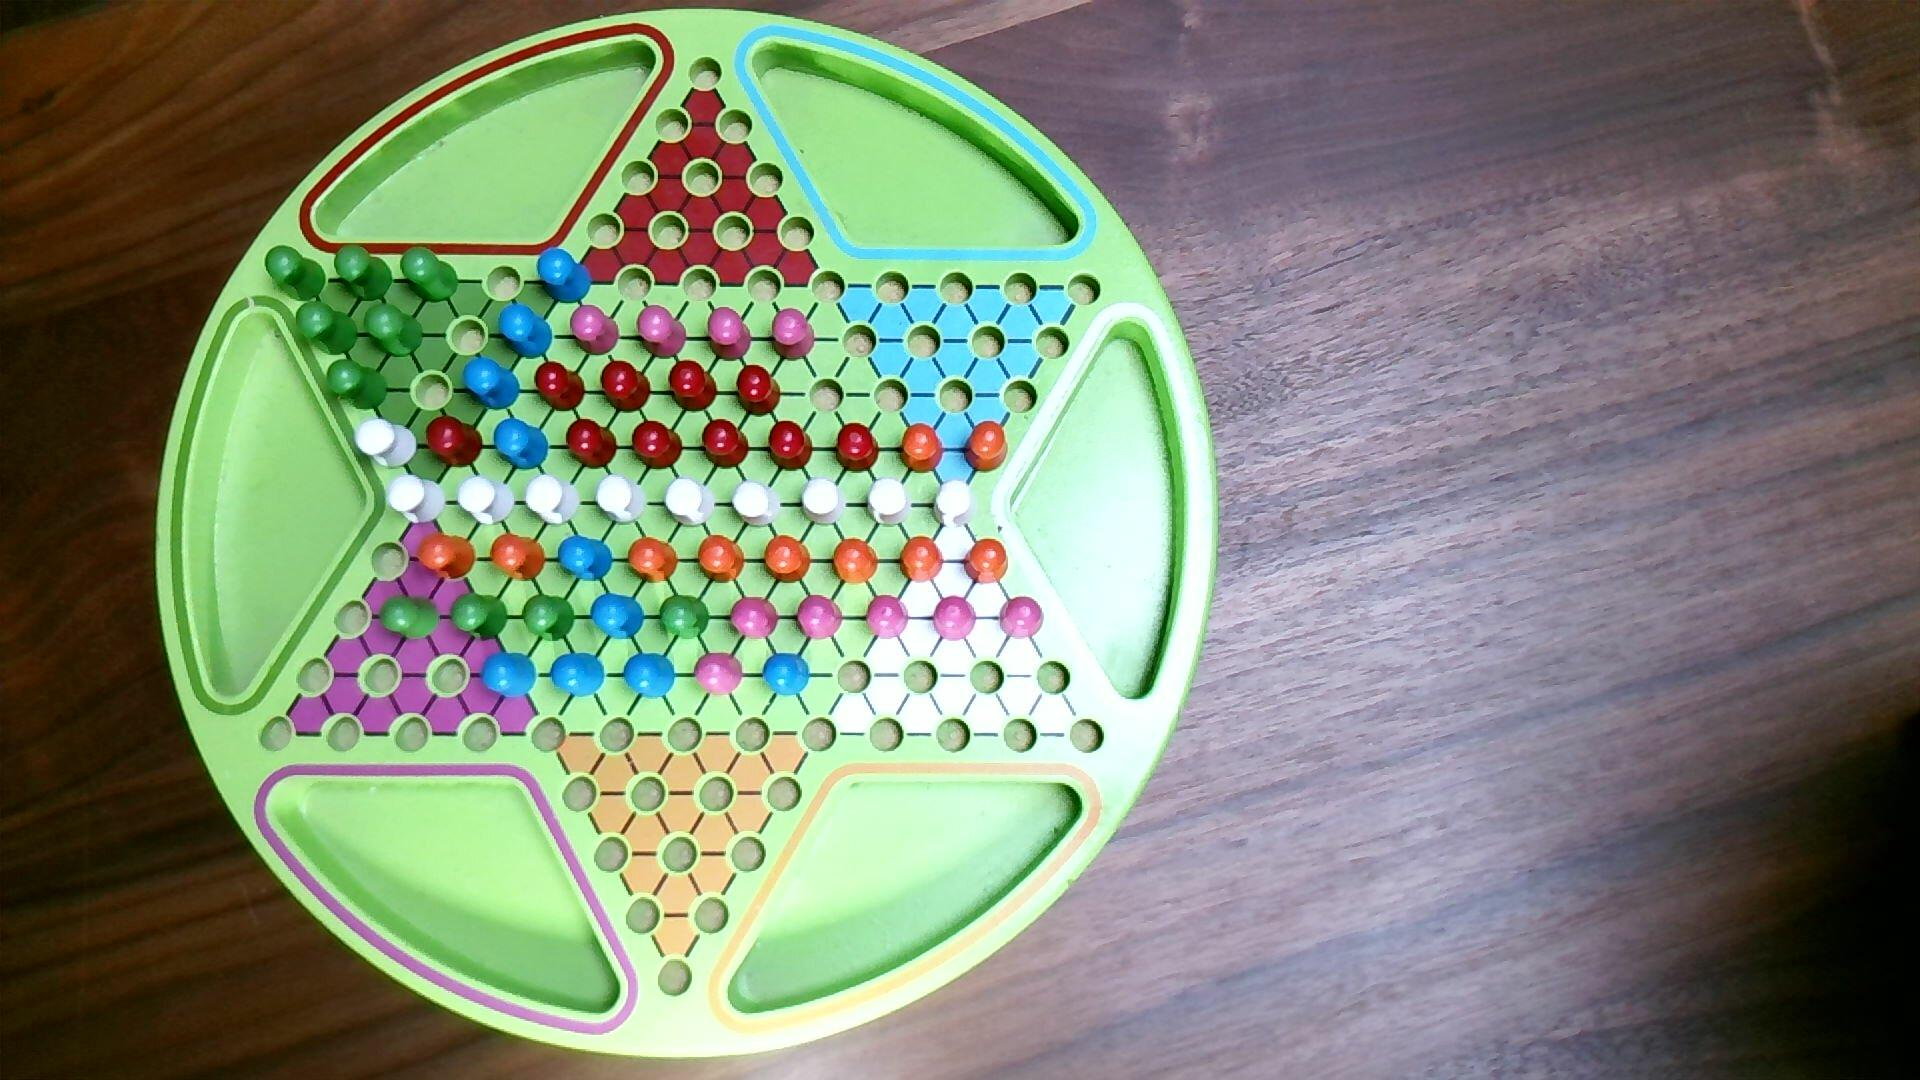B: (535, 245, 595, 306), (462, 353, 524, 411), (497, 302, 555, 363), (492, 417, 551, 472), (477, 650, 541, 702), (588, 591, 647, 642), (549, 650, 608, 700), (556, 533, 616, 583), (622, 651, 678, 702), (761, 651, 814, 698)
G: (334, 241, 396, 305), (264, 244, 328, 305), (295, 299, 361, 357), (363, 301, 426, 360), (400, 245, 460, 306), (326, 357, 390, 413), (448, 589, 510, 645), (378, 592, 443, 645), (521, 592, 578, 645), (658, 593, 713, 642)
O: (415, 530, 480, 585), (489, 530, 549, 584), (696, 531, 748, 585), (963, 418, 1011, 475), (764, 531, 814, 585), (626, 535, 680, 585), (898, 421, 947, 476), (831, 535, 881, 587), (963, 535, 1011, 585), (899, 534, 947, 585)
R: (425, 411, 487, 471), (564, 415, 620, 472), (533, 359, 588, 415), (666, 357, 720, 415), (632, 419, 686, 473), (600, 359, 653, 414), (833, 419, 884, 476), (735, 363, 785, 419), (702, 417, 752, 471), (766, 418, 815, 473)
R2: (636, 302, 688, 363), (568, 302, 622, 357), (767, 306, 818, 364), (705, 305, 754, 364), (728, 595, 781, 644), (694, 651, 745, 700), (997, 593, 1047, 642), (796, 593, 847, 642), (931, 592, 978, 644), (865, 593, 911, 644)
W: (353, 415, 421, 472), (524, 472, 583, 530), (386, 473, 448, 527), (458, 473, 518, 527), (663, 476, 719, 530), (596, 473, 649, 527), (731, 477, 785, 530), (799, 475, 851, 527), (865, 473, 913, 529), (931, 477, 978, 531)
